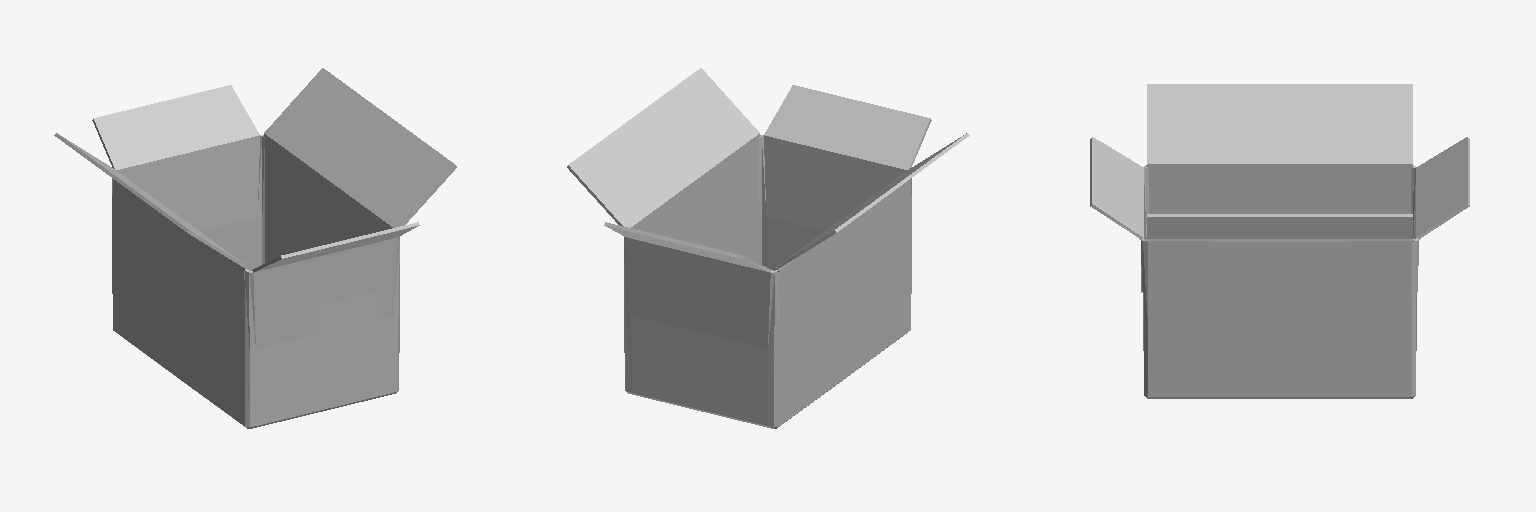
Rendered from Cardboard.020.obj.
3 views of the same model, side by side, from view 1: azimuth 30°, elevation 25°; view 2: azimuth 150°, elevation 25°; view 3: azimuth 270°, elevation 25° (orthographic).
Parts seen in each view (by area): view 1: Cardboard.020_Cube.007, sign2.012_sign2.001, RedSticker.011_Plane.004; view 2: Cardboard.020_Cube.007, RedSticker.011_Plane.004; view 3: Cardboard.020_Cube.007.
Part boxes in pixels (bbox=[...]): Cardboard.020_Cube.007: bbox=[54, 68, 456, 428]; sign2.012_sign2.001: bbox=[313, 292, 375, 371]; RedSticker.011_Plane.004: bbox=[119, 193, 168, 290]; Cardboard.020_Cube.007: bbox=[567, 68, 969, 428]; RedSticker.011_Plane.004: bbox=[787, 261, 837, 321]; Cardboard.020_Cube.007: bbox=[1090, 84, 1469, 398].
Size of the model in its own units: 0.6638 by 0.5029 by 0.8056.